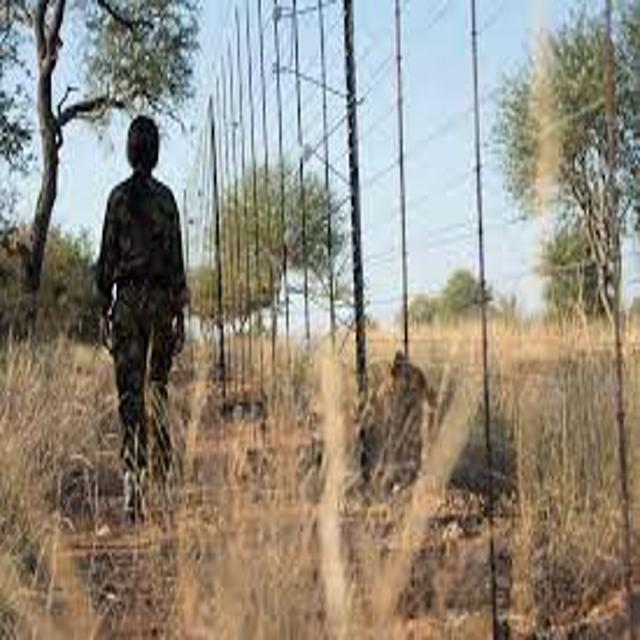poacher: (52, 88, 310, 547)
